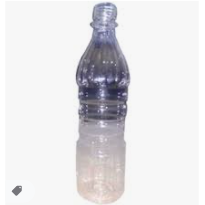Bottle: (76, 4, 127, 203)
